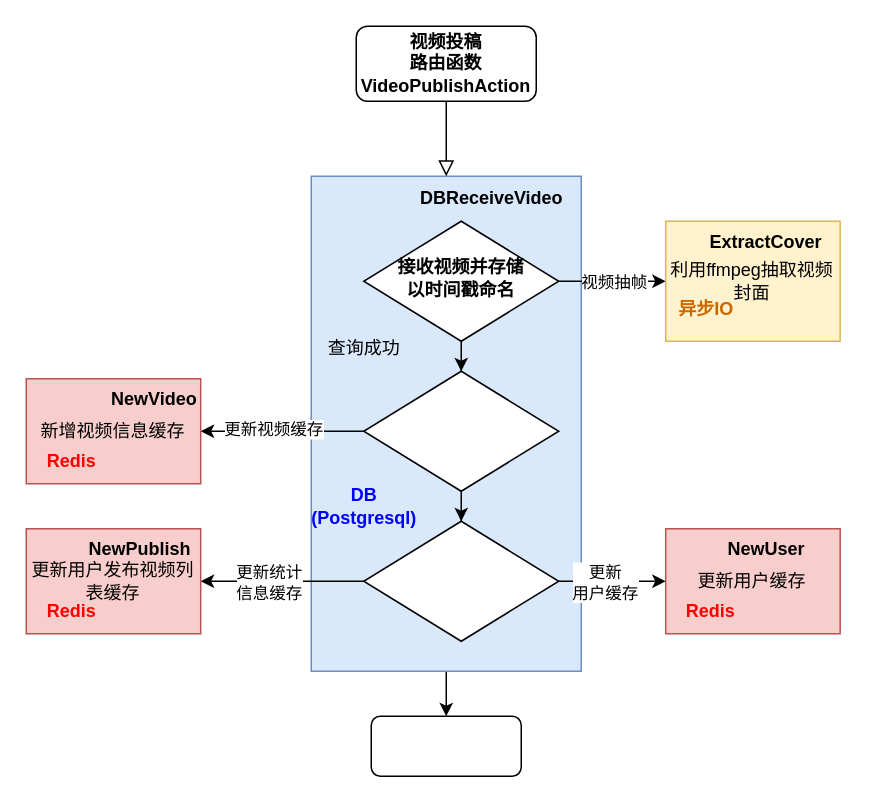
This 887x803 diagram has some shape labels left out. The shapes that lost their labels are listed below. From the top down, each one's centre as x and y in pixels, then its label:
At [460,430]: "插入视频 到数据库".
At [460,580]: "更新作者User 及相关统计信息".
At [445,745]: "视频投稿业务完成".
